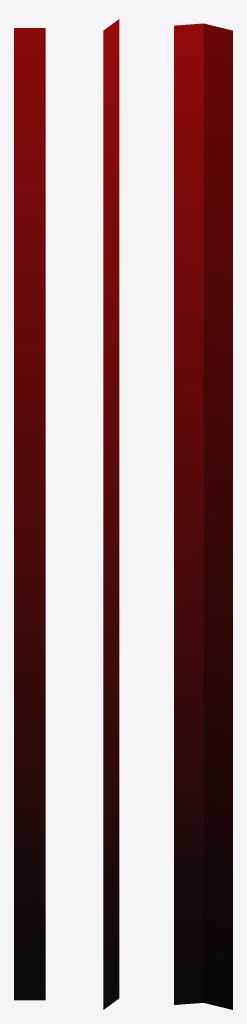
3 views of the same model, side by side, from view 1: azimuth 90°, elevation 25°; view 2: azimuth 150°, elevation 25°; view 3: azimuth 330°, elevation 25° (orthographic).
Parts seen in each view (by area): view 1: KELP_LP_003; view 2: KELP_LP_003; view 3: KELP_LP_003.
Part boxes in pixels (x1,y1,x2,y2): KELP_LP_003: (14, 28, 45, 1000); KELP_LP_003: (103, 19, 119, 1009); KELP_LP_003: (174, 23, 232, 1009).
Bounding box in the file's own units: 0.6623 × 12.63 × 0.5265.
